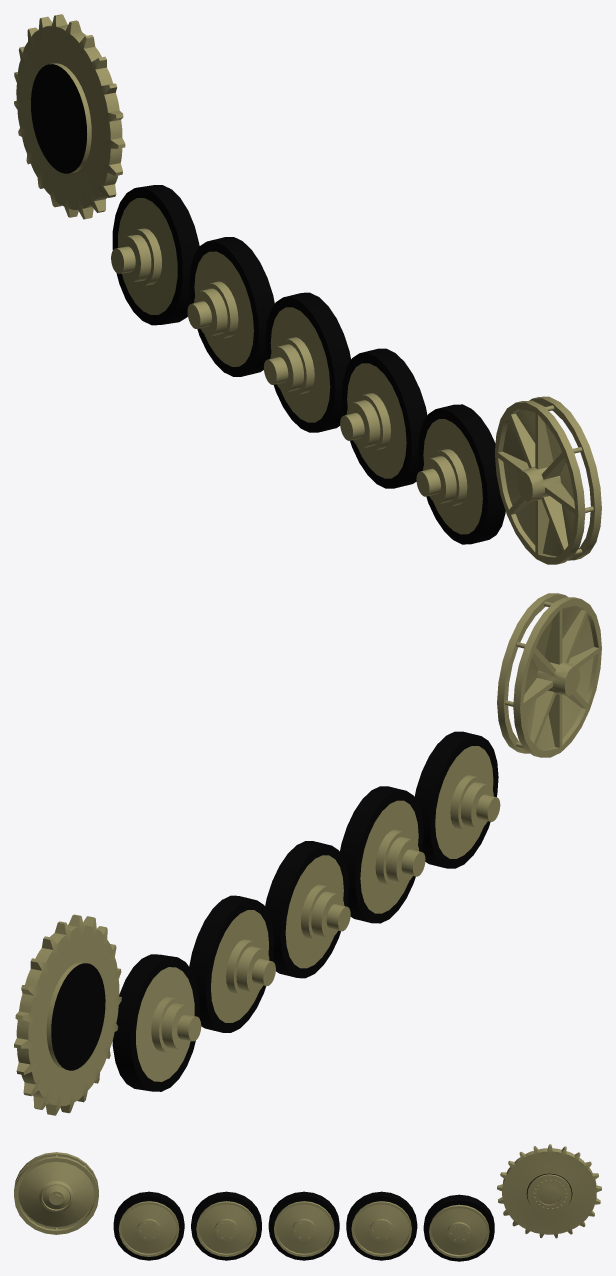
Rendered from tankwheels.FBX.
3 views of the same model, one above another, from view 1: azimuth 30°, elevation 25°; view 2: azimuth 150°, elevation 25°; view 3: azimuth 270°, elevation 25° (orthographic). The views are drawn at different scales.
Parts seen in each view (by area): view 1: drv_sprocket l01, rr_wheel r, rd_wheel r1, rd_wheel r5, rd_wheel r3, rd_wheel r4, rd_wheel r2; view 2: drv_sprocket l01, rr_wheel r, rd_wheel r1, rd_wheel r2, rd_wheel r4, rd_wheel r5, rd_wheel r3; view 3: drv_sprocket l01, rr_wheel r, rd_wheel r2, rd_wheel r5, rd_wheel r3, rd_wheel r4, rd_wheel r1.
Boxes of the visible parts, x1,y1,x2,y2 form: drv_sprocket l01: [14, 14, 125, 219]; rr_wheel r: [495, 396, 601, 564]; rd_wheel r1: [111, 185, 199, 325]; rd_wheel r5: [416, 404, 505, 544]; rd_wheel r3: [263, 292, 351, 432]; rd_wheel r4: [340, 348, 427, 488]; rd_wheel r2: [187, 237, 274, 376]; drv_sprocket l01: [14, 914, 121, 1115]; rr_wheel r: [497, 593, 601, 757]; rd_wheel r1: [112, 954, 201, 1091]; rd_wheel r2: [189, 895, 275, 1032]; rd_wheel r4: [340, 786, 425, 923]; rd_wheel r5: [414, 731, 500, 868]; rd_wheel r3: [265, 841, 350, 978]; drv_sprocket l01: [497, 1144, 601, 1238]; rr_wheel r: [14, 1152, 98, 1234]; rd_wheel r2: [346, 1191, 417, 1260]; rd_wheel r5: [113, 1191, 184, 1260]; rd_wheel r3: [268, 1191, 339, 1260]; rd_wheel r4: [191, 1191, 261, 1260]; rd_wheel r1: [423, 1194, 494, 1261].
Bounding box in the file's own units: 0.2681 × 0.95 × 4.32.
